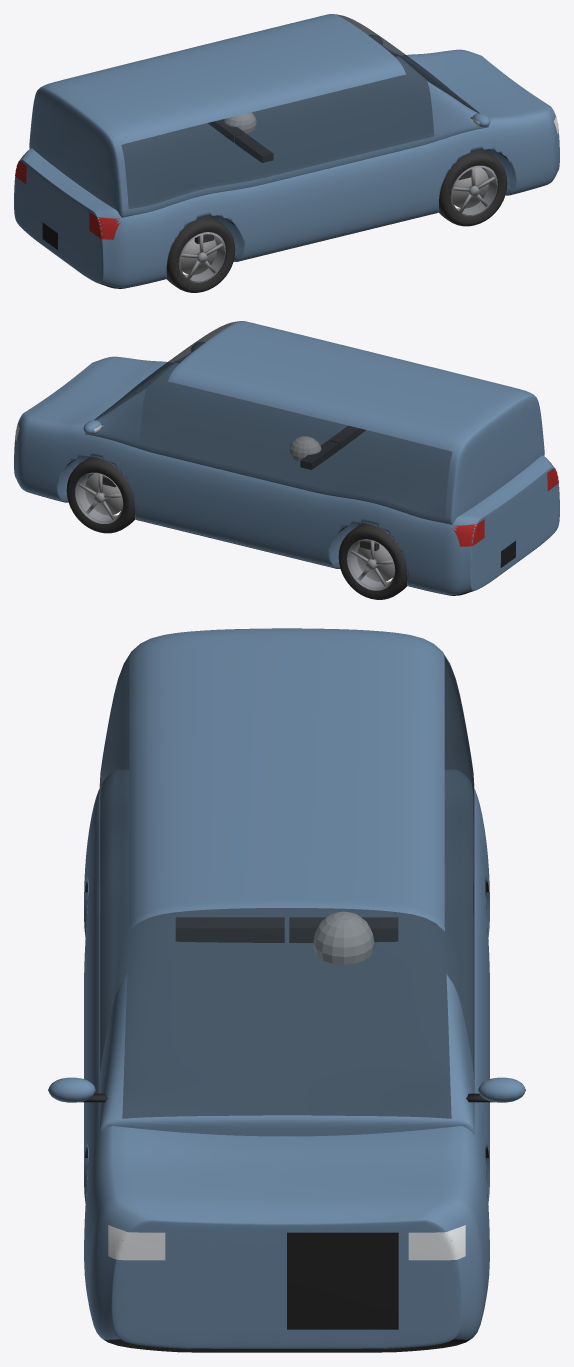
Rendered from derby_tanaga_voyageur.glb.
The picture shows the model from 3 angles, top to bottom: view 1: azimuth 30°, elevation 25°; view 2: azimuth 150°, elevation 25°; view 3: azimuth 270°, elevation 25°; orthographic projection. The views are drawn at different scales.
Parts seen in each view (by area): view 1: cabin, body, bumper_rear, wheel_rr_spin, wheel_fr_spin, bumper_front, interior; view 2: cabin, body, bumper_rear, wheel_rl_spin, wheel_fl_spin, bumper_front, interior; view 3: cabin, body, bumper_front, interior, mirror_l, mirror_r.
Part boxes in pixels (x1,y1,x2,y2): cabin: (29, 14, 488, 217); body: (121, 51, 541, 288); bumper_rear: (14, 148, 128, 288); wheel_rr_spin: (166, 216, 235, 292); wheel_fr_spin: (439, 149, 507, 226); bumper_front: (448, 49, 559, 187); interior: (208, 112, 273, 162); cabin: (85, 321, 544, 524); body: (32, 358, 452, 595); bumper_rear: (445, 455, 559, 595); wheel_rl_spin: (338, 523, 407, 599); wheel_fl_spin: (66, 456, 134, 533); bumper_front: (14, 356, 125, 494); interior: (289, 425, 365, 469); cabin: (99, 628, 474, 1136); body: (84, 773, 489, 1306); bumper_front: (87, 1186, 486, 1352); interior: (175, 911, 398, 964); mirror_l: (466, 1077, 525, 1102); mirror_r: (48, 1077, 107, 1102).
Size of the model in its own units: 4.86 by 1.75 by 2.19.
